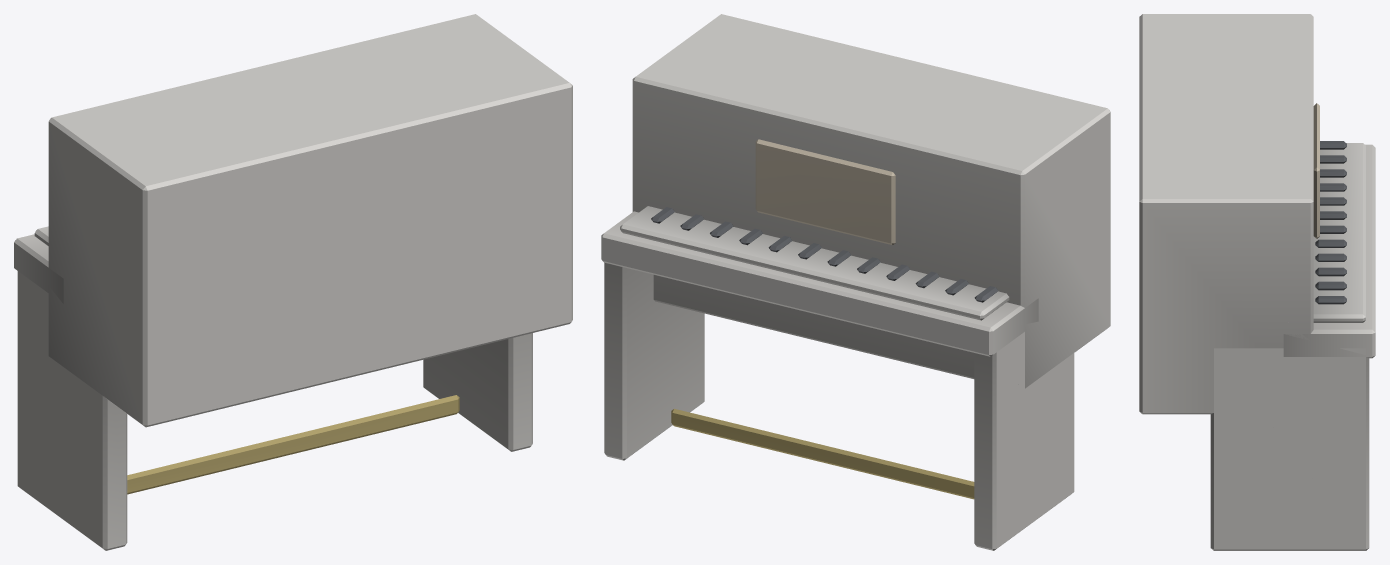
The model's file is furn_piano__white.glb.
3 renders of one model, left to right at view 1: azimuth 30°, elevation 25°; view 2: azimuth 150°, elevation 25°; view 3: azimuth 270°, elevation 25°, orthographic. The views are drawn at different scales.
Bounding box in the file's own units: 1.4 × 1.22 × 0.745.
